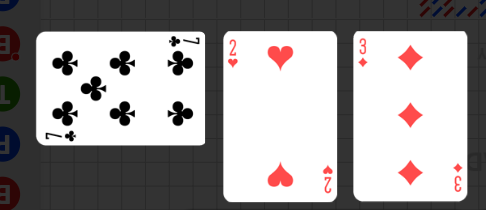2H: (321, 163, 333, 194)
7C: (166, 34, 201, 49), (44, 128, 78, 143)
